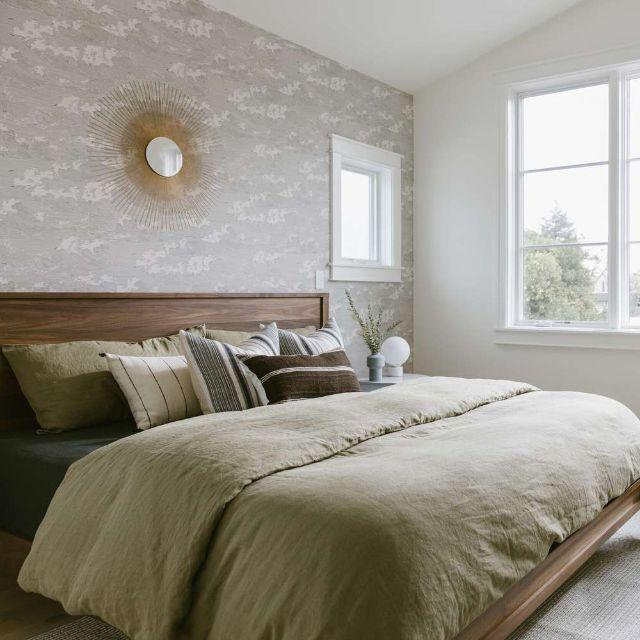bed: (14, 376, 640, 640)
pillow: (11, 341, 180, 420), (182, 328, 284, 413), (103, 348, 198, 424), (240, 340, 362, 393)
window: (505, 84, 640, 335), (331, 136, 403, 281)
